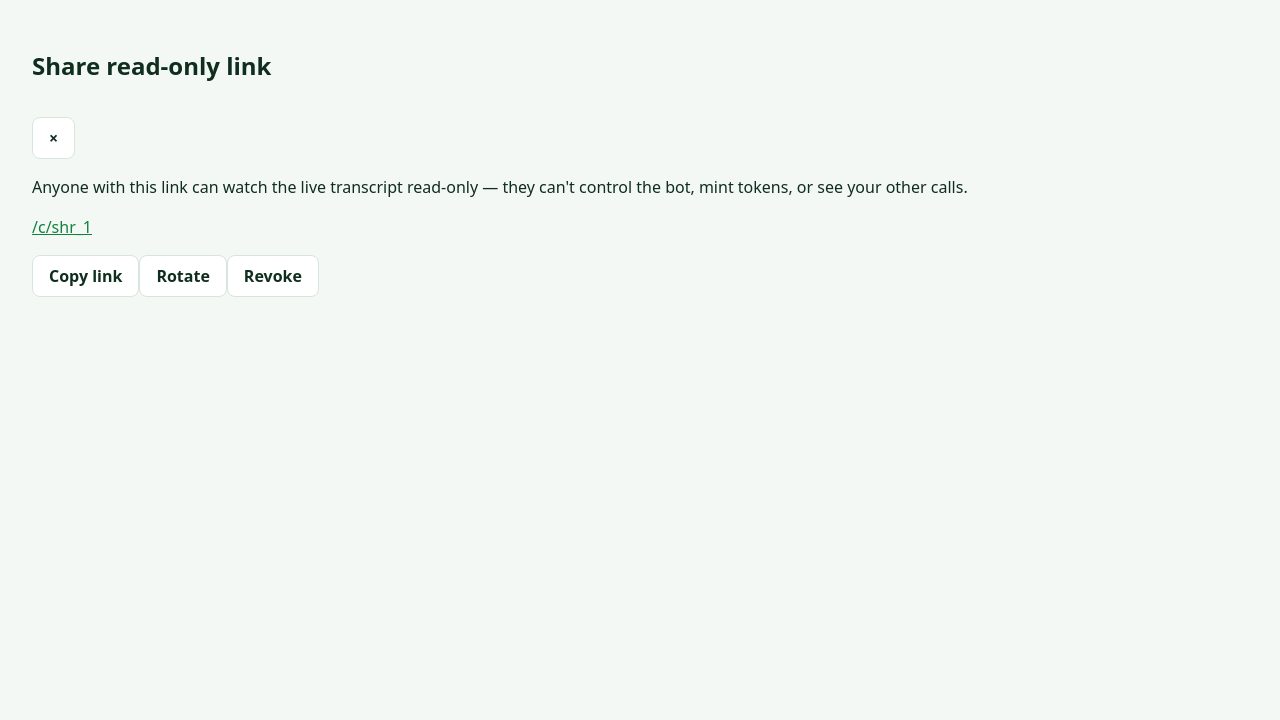
ShareModal — owner share-link control (SPEC §4.1, §5.7, Story 2) › copies the link to the clipboard and confirms 'Copied'
The image size is (1280, 720).
Expected: the link "/c/shr_1" is shown, 32,216 -> 92,238
Click the button "Copy link". click: (86, 276)
box: 32,255 -> 139,297
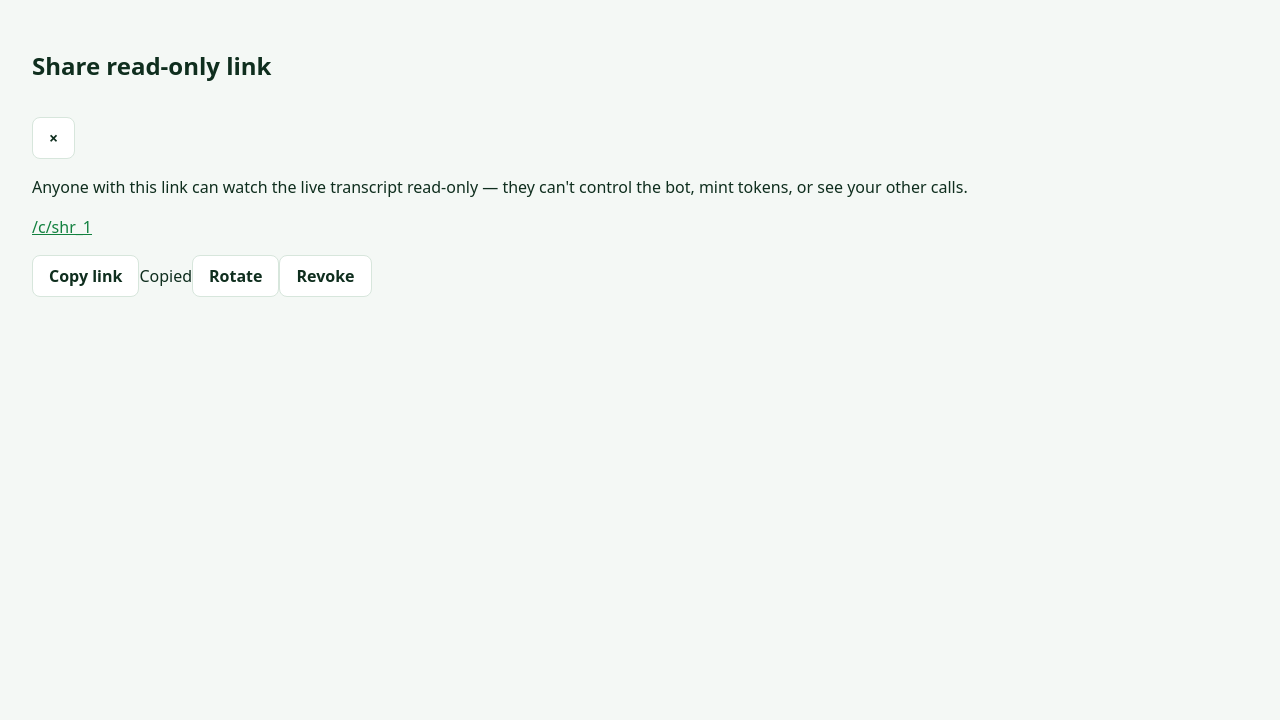
Expected: the text "Copied" is shown, 139,265 -> 192,287
